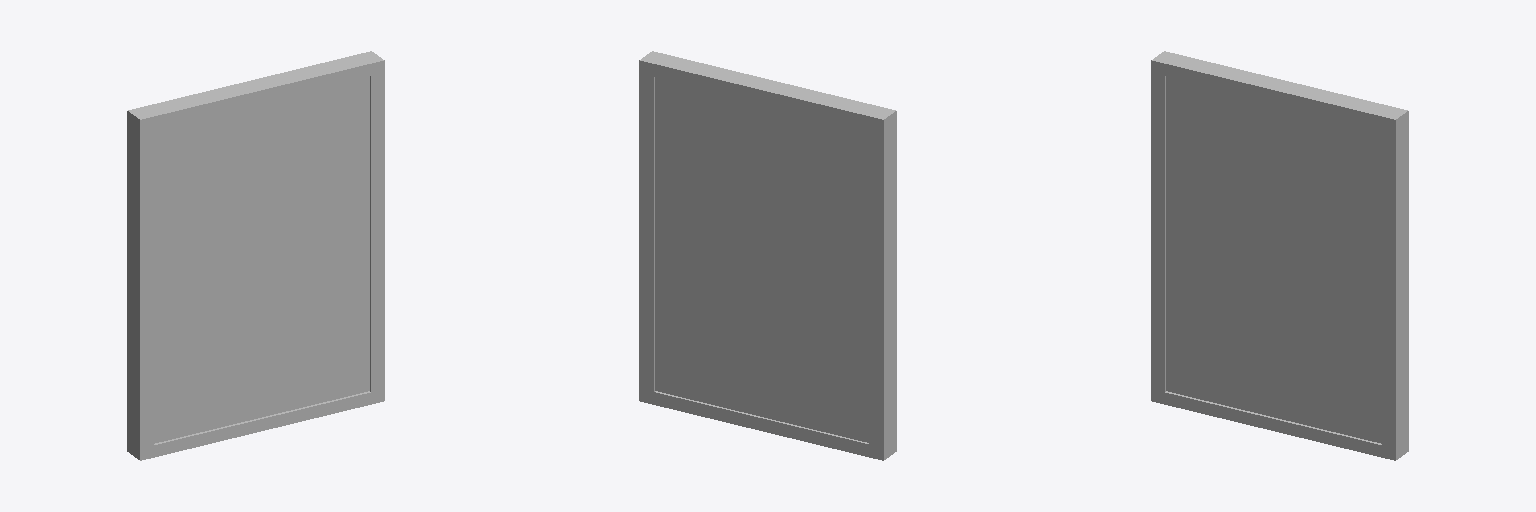
The model's file is 9x12Frame_01.obj.
The picture shows the model from 3 angles: view 1: azimuth 30°, elevation 25°; view 2: azimuth 150°, elevation 25°; view 3: azimuth 330°, elevation 25°; orthographic projection.
Parts seen in each view (by area): view 1: 9x12_frame_01_9x12_Cube.001; view 2: 9x12_frame_01_9x12_Cube.001; view 3: 9x12_frame_01_9x12_Cube.001.
Part boxes in pixels (x1,y1,x2,y2): 9x12_frame_01_9x12_Cube.001: (127,51,384,460); 9x12_frame_01_9x12_Cube.001: (639,51,896,460); 9x12_frame_01_9x12_Cube.001: (1151,51,1408,460).
Bounding box in the file's own units: 0.2285 × 0.3048 × 0.0207.